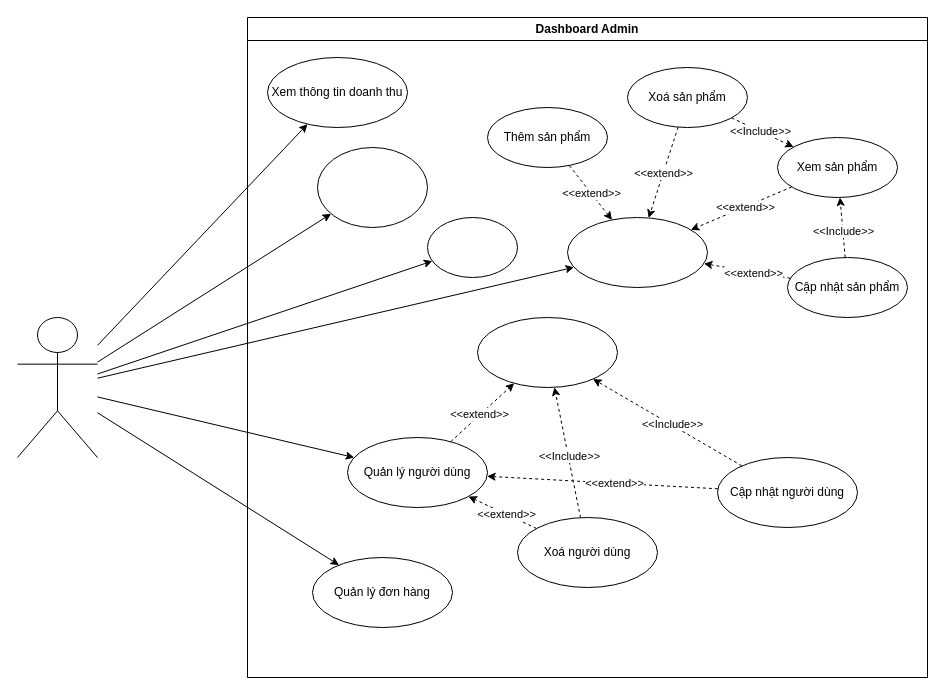
Image size: 945x695. Some labels were removed from this diagram. Each missing label, with the centre of its shape:
Admin: point 57,387
Nhập kho: point 472,247
Quản lý sản phẩm: point 637,252
Xem các đơn hàng gần đây: point 372,187
Xem người dùng: point 547,352
